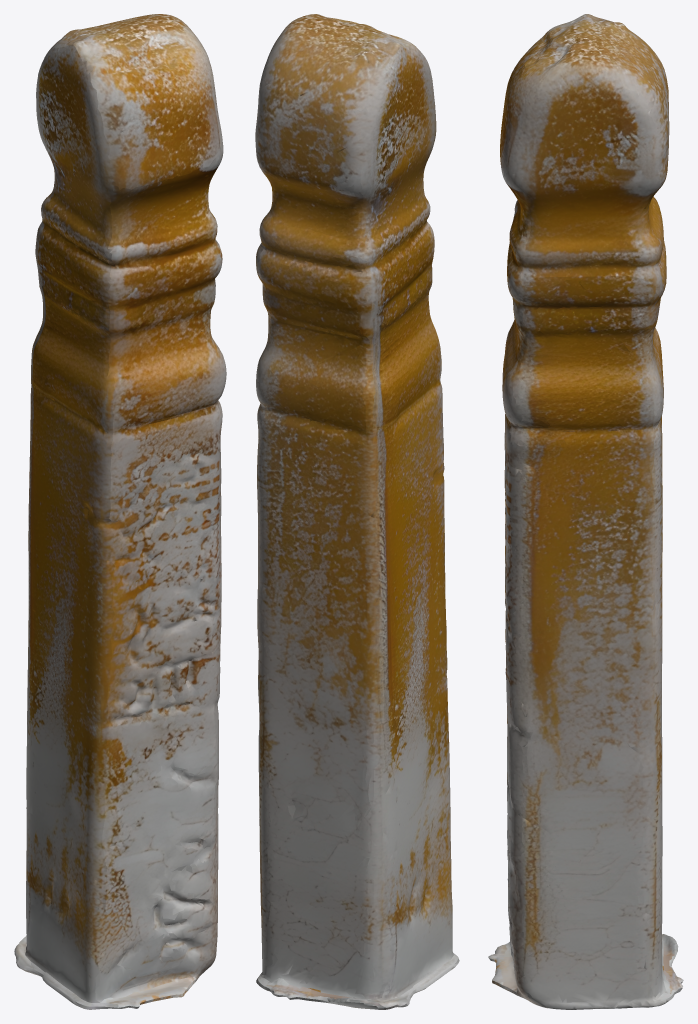
The model's file is abat.glb.
3 renders of one model, left to right at view 1: azimuth 30°, elevation 25°; view 2: azimuth 150°, elevation 25°; view 3: azimuth 270°, elevation 25°, orthographic.
Visible parts, largest first — view 1: textured_mesh; view 2: textured_mesh; view 3: textured_mesh.
Part boxes in pixels (x1,y1,x2,y2): textured_mesh: [14, 14, 226, 1009]; textured_mesh: [255, 14, 459, 1009]; textured_mesh: [488, 14, 683, 1009].
Bounding box in the file's own units: 0.3371 × 1.99 × 0.3731.
Materials: 1 (1 with a texture image).
